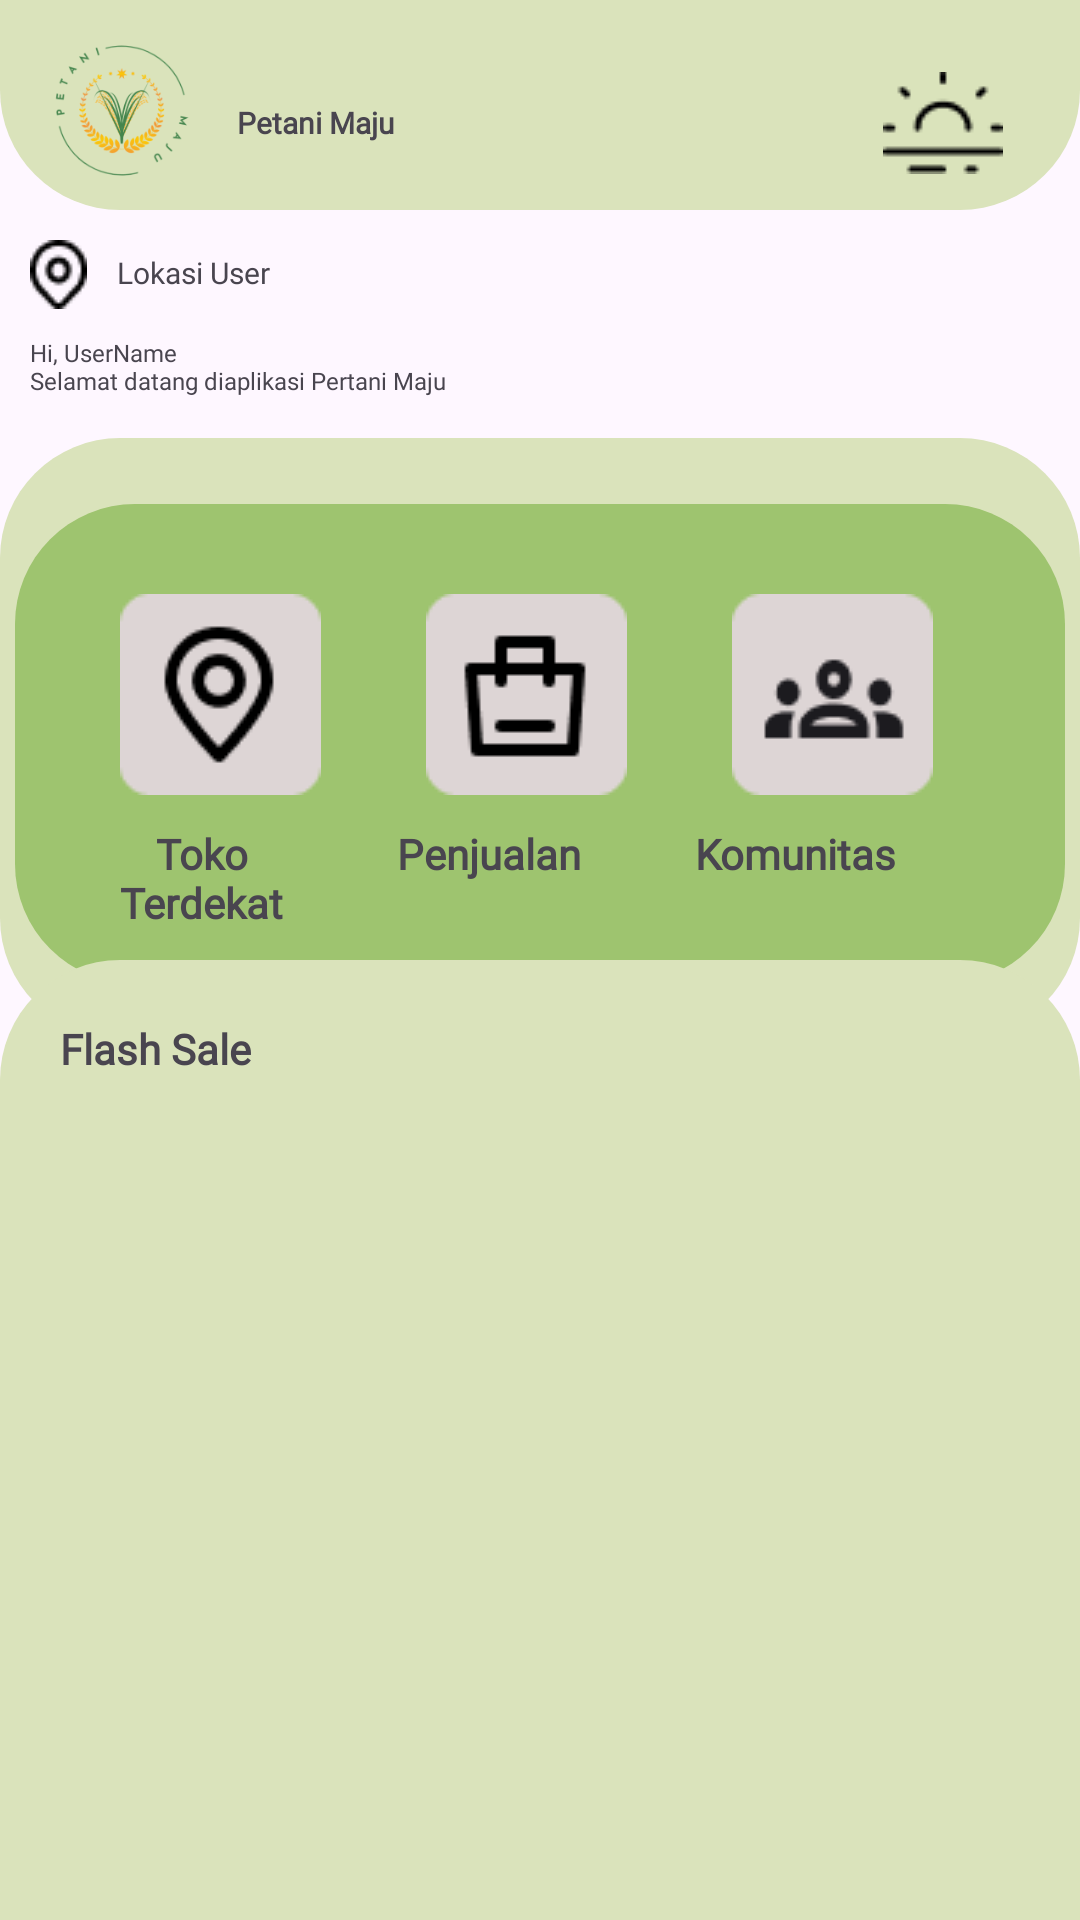

Screen size 1080px×1920px. Icon name, then its box in pixels as [left=x1, top=y1, right=x2, bottom=y2]:
home terdekat: [left=120, top=594, right=321, bottom=795]
position home: [left=30, top=240, right=87, bottom=309]
weather home: [left=883, top=72, right=1003, bottom=174]
